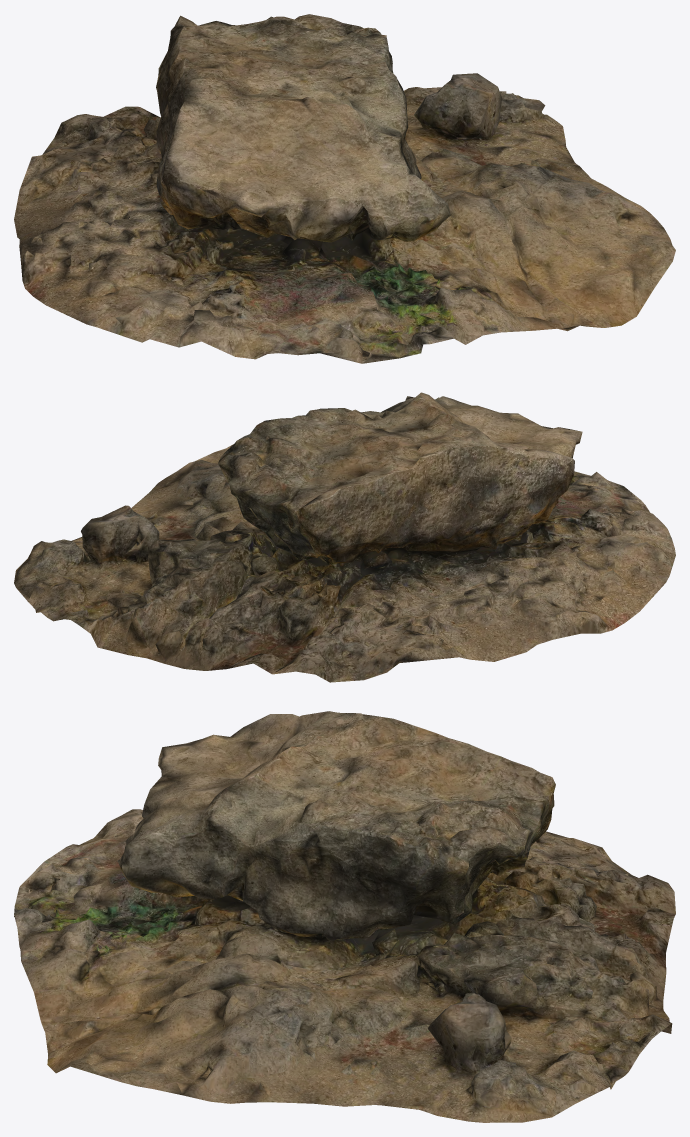
File: nature_rock_t1_coast.glb
3 renders of one model, top to bottom at view 1: azimuth 30°, elevation 25°; view 2: azimuth 150°, elevation 25°; view 3: azimuth 270°, elevation 25°, orthographic. The views are drawn at different scales.
Parts seen in each view (by area): view 1: coast_rocks_05; view 2: coast_rocks_05; view 3: coast_rocks_05.
Part boxes in pixels (box(x1,y1,x2,y2)): coast_rocks_05: box(14, 14, 675, 363); coast_rocks_05: box(14, 392, 675, 682); coast_rocks_05: box(14, 711, 675, 1122).
Bounding box in the file's own units: 5.99 × 1.97 × 5.57.
1 material, 1 textured.
